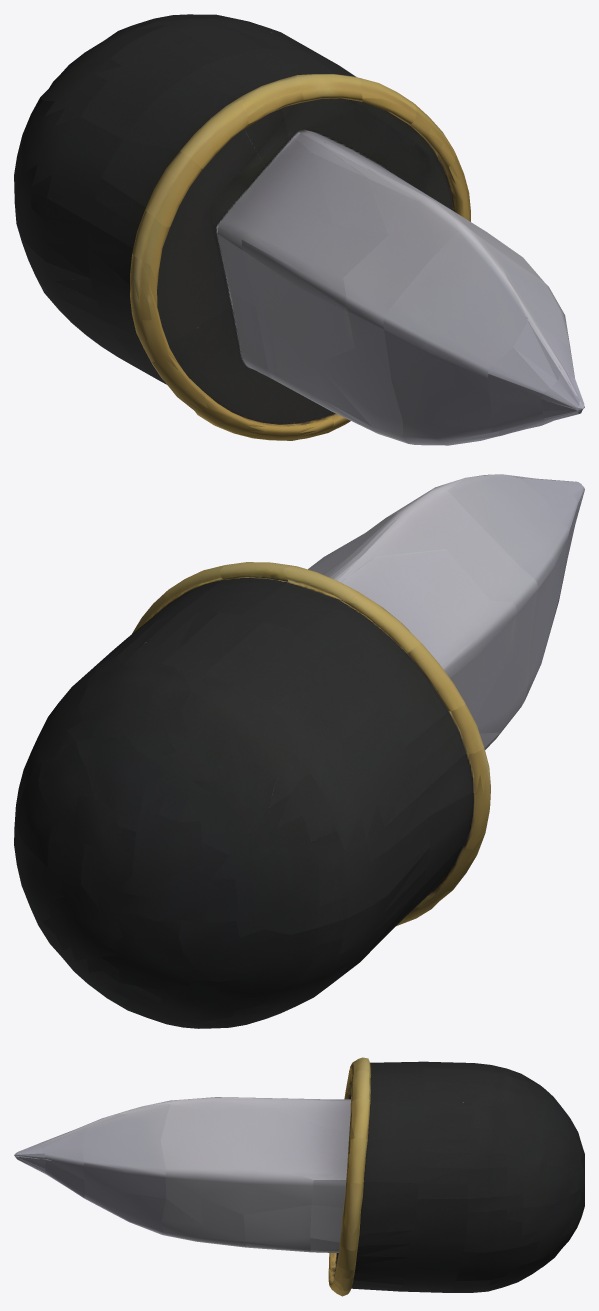
The model's file is punal_pablo2.glb.
3 renders of one model, top to bottom at view 1: azimuth 30°, elevation 25°; view 2: azimuth 150°, elevation 25°; view 3: azimuth 270°, elevation 25°, orthographic. The views are drawn at different scales.
Size of the model in its own units: 0.4326 by 0.4209 by 1.
Materials: 1 (1 with a texture image).
